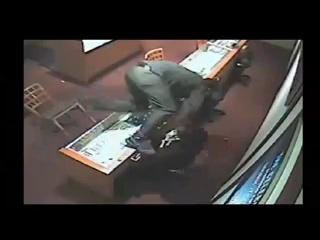shoplifting: (92, 56, 228, 183)
